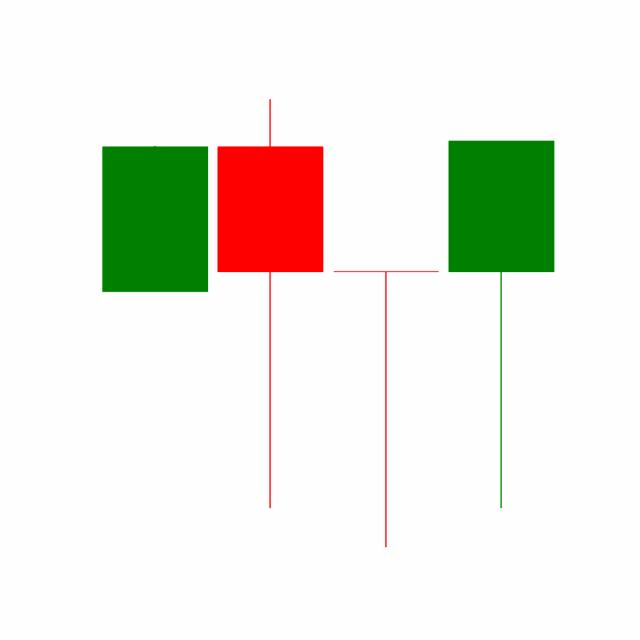Hanging Man: (443, 136, 559, 511)
